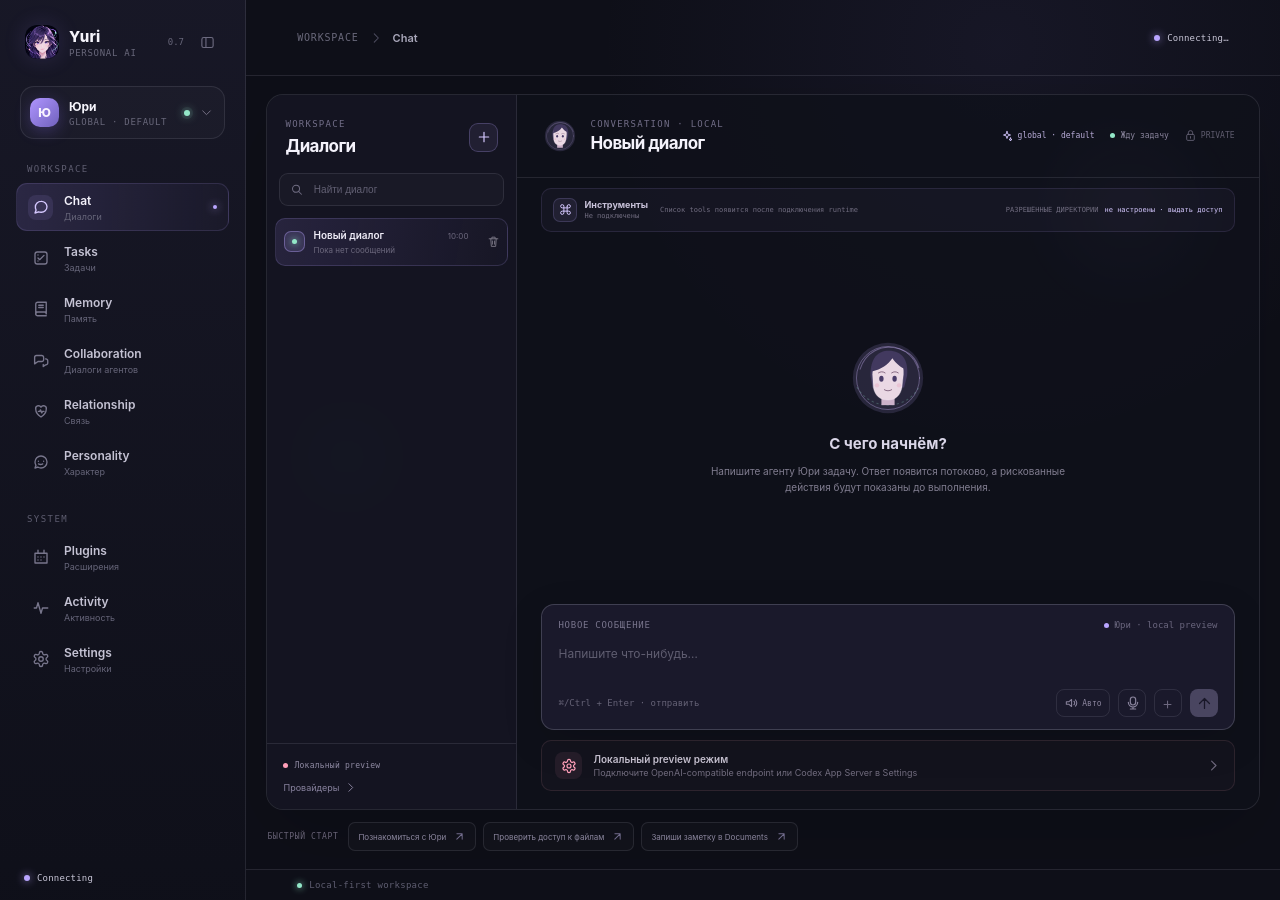
portable agent profiles › exports the active owner profile from the roster menu
Step 1. Click the button with class "sidebar__profile" → [122, 112], box [20, 86, 225, 139]
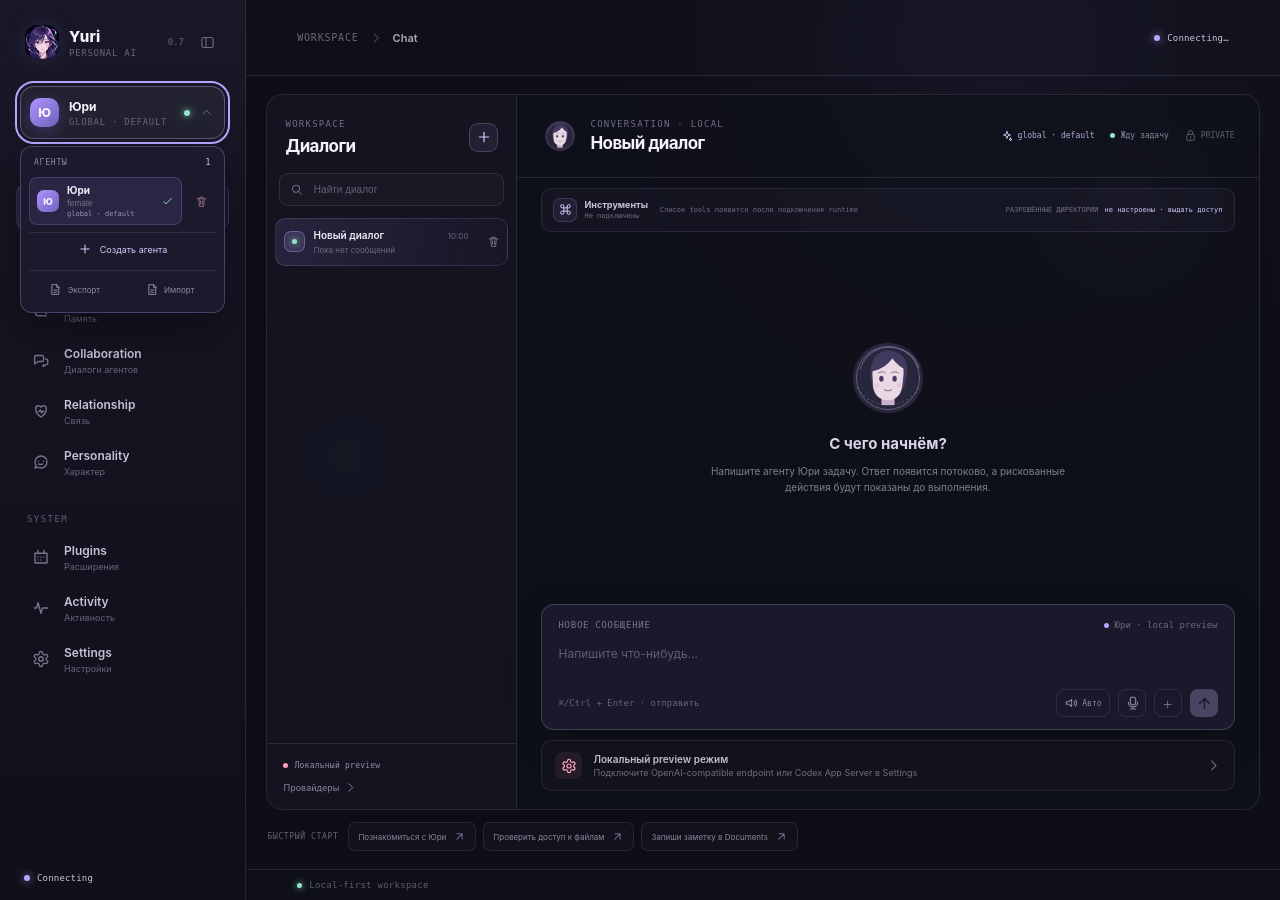
Step 2. Click the button "Экспорт" → [75, 290], box [29, 275, 120, 304]
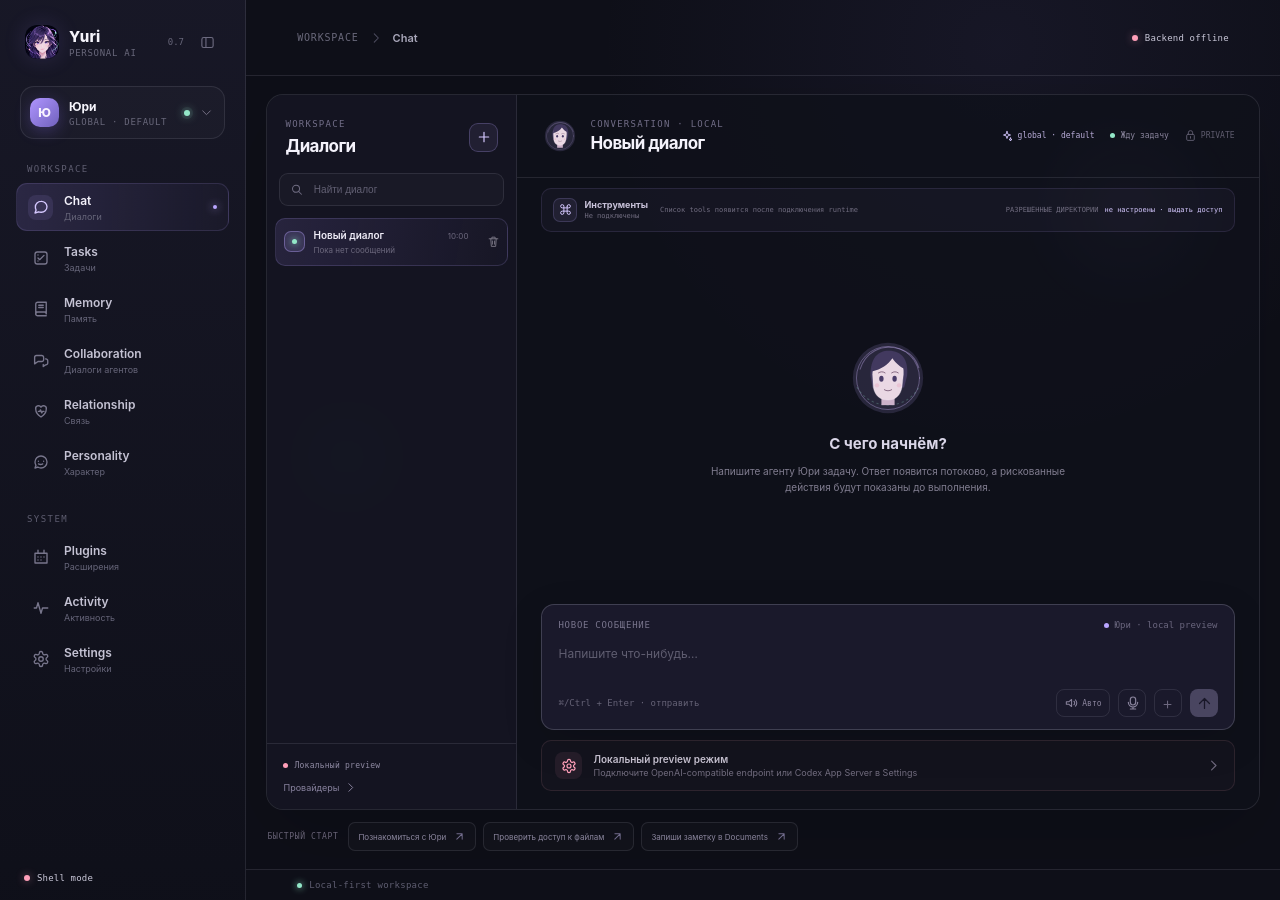
Step 3. Click the button with class "sidebar__profile" → [122, 112], box [20, 86, 225, 139]
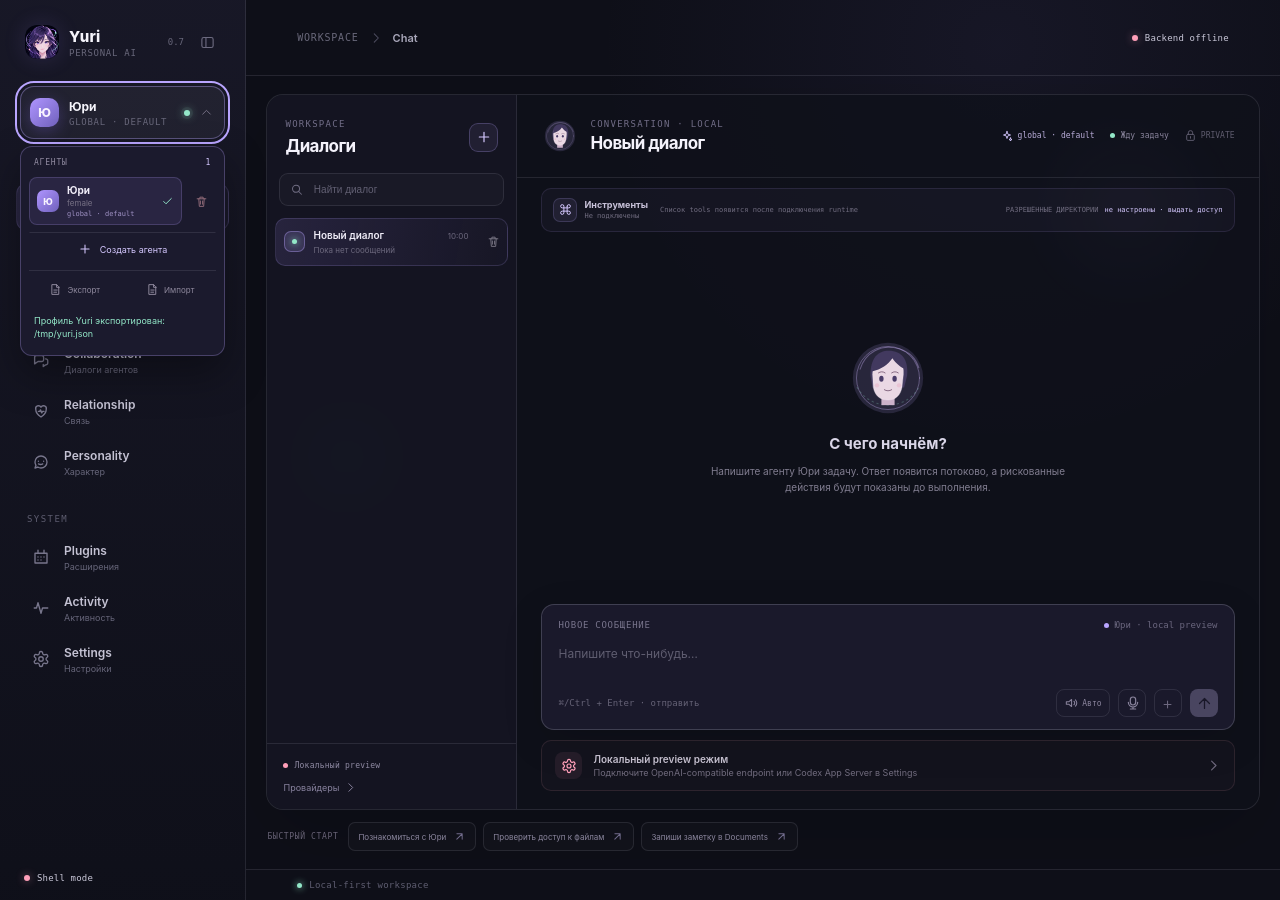
Expected: the text "Профиль Yuri экспортирован: /tmp/yuri.json" is shown, [34, 315, 165, 339]
